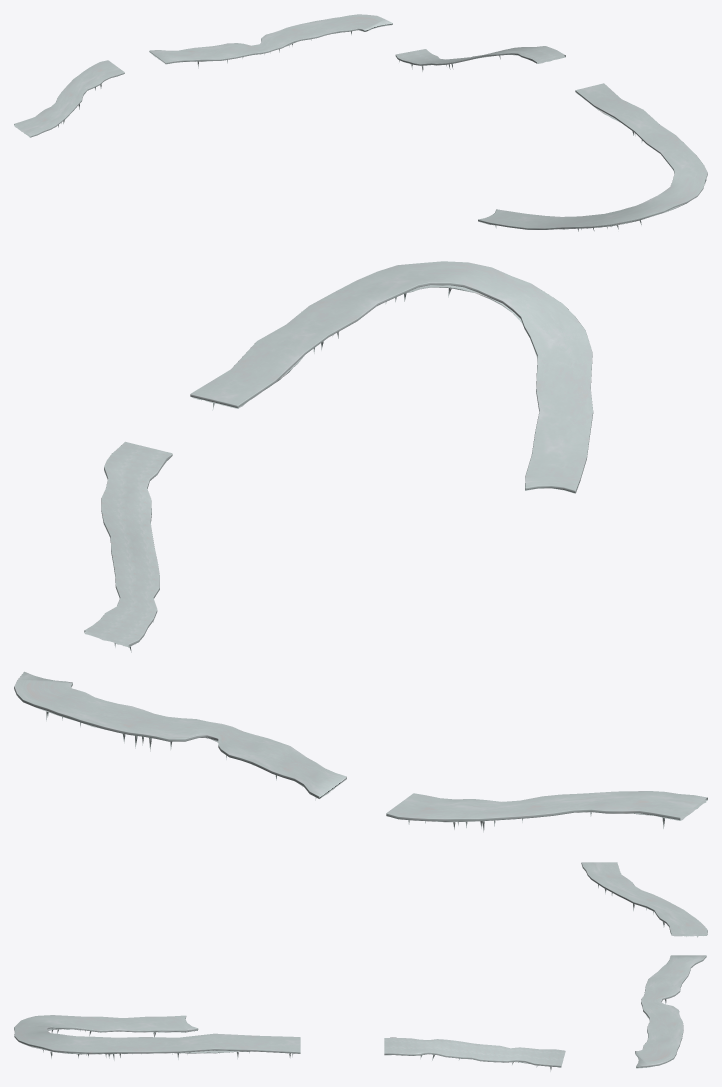
Rendered from field_winter_road_iceroad.fbx.
3 views of the same model, one above another, from view 1: azimuth 30°, elevation 25°; view 2: azimuth 150°, elevation 25°; view 3: azimuth 270°, elevation 25° (orthographic). The views are drawn at different scales.
Visible parts, largest first — view 1: field_winter_road14, field_winter_road13; view 2: field_winter_road14, field_winter_road13; view 3: field_winter_road14, field_winter_road13.
Boxes of the visible parts, x1=… form: field_winter_road14: x1=395, y1=46, x2=707, y2=231; field_winter_road13: x1=14, y1=14, x2=392, y2=137; field_winter_road14: x1=84, y1=261, x2=593, y2=652; field_winter_road13: x1=14, y1=671, x2=707, y2=832; field_winter_road14: x1=14, y1=1015, x2=565, y2=1071; field_winter_road13: x1=581, y1=862, x2=707, y2=1068.
Size of the model in its own units: 4174 by 581 by 5246.
Materials: 1 (1 with a texture image).
